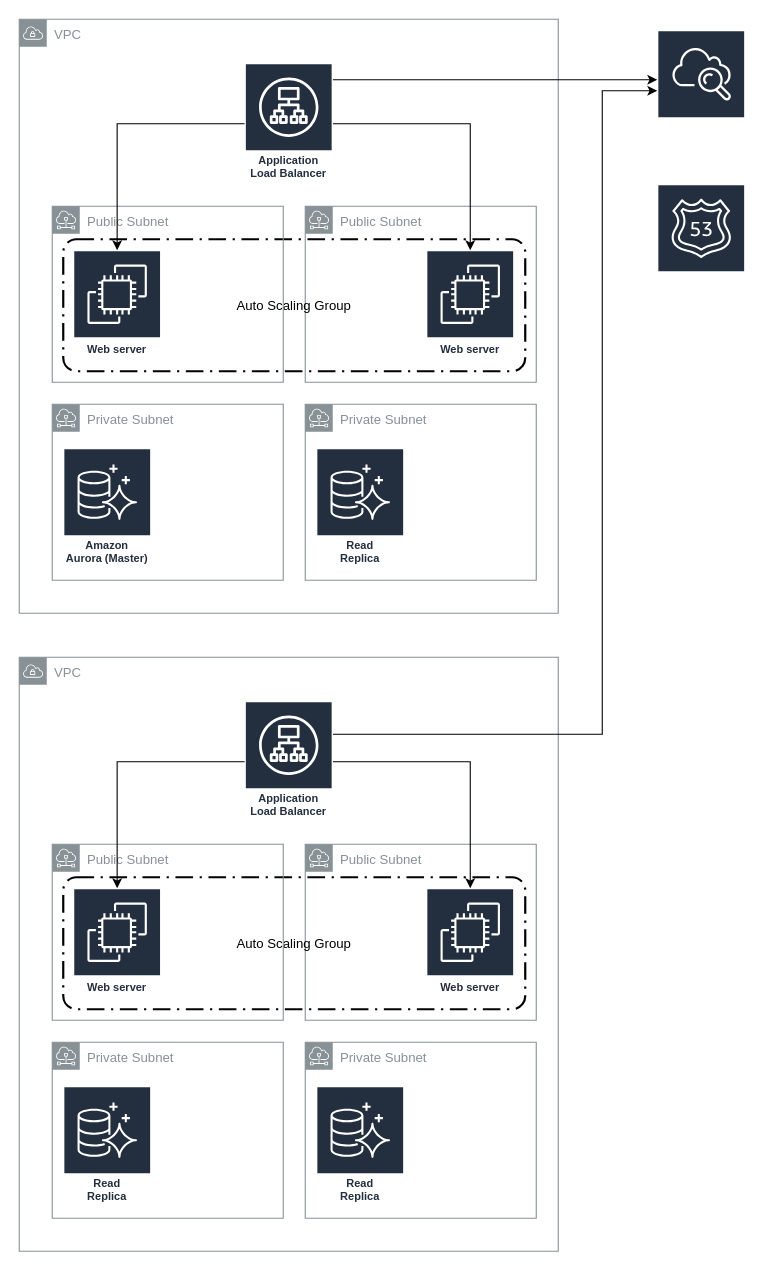
The diagram is 765 pixels wide and 1271 high, and some of its shapes have lost their labels. The shapes that lost their labels are listed below. From the top down, each one's centre as x and y in pixels, then its label:
(x=700, y=90): CloudFront
(x=700, y=244): Amazon Route 53
